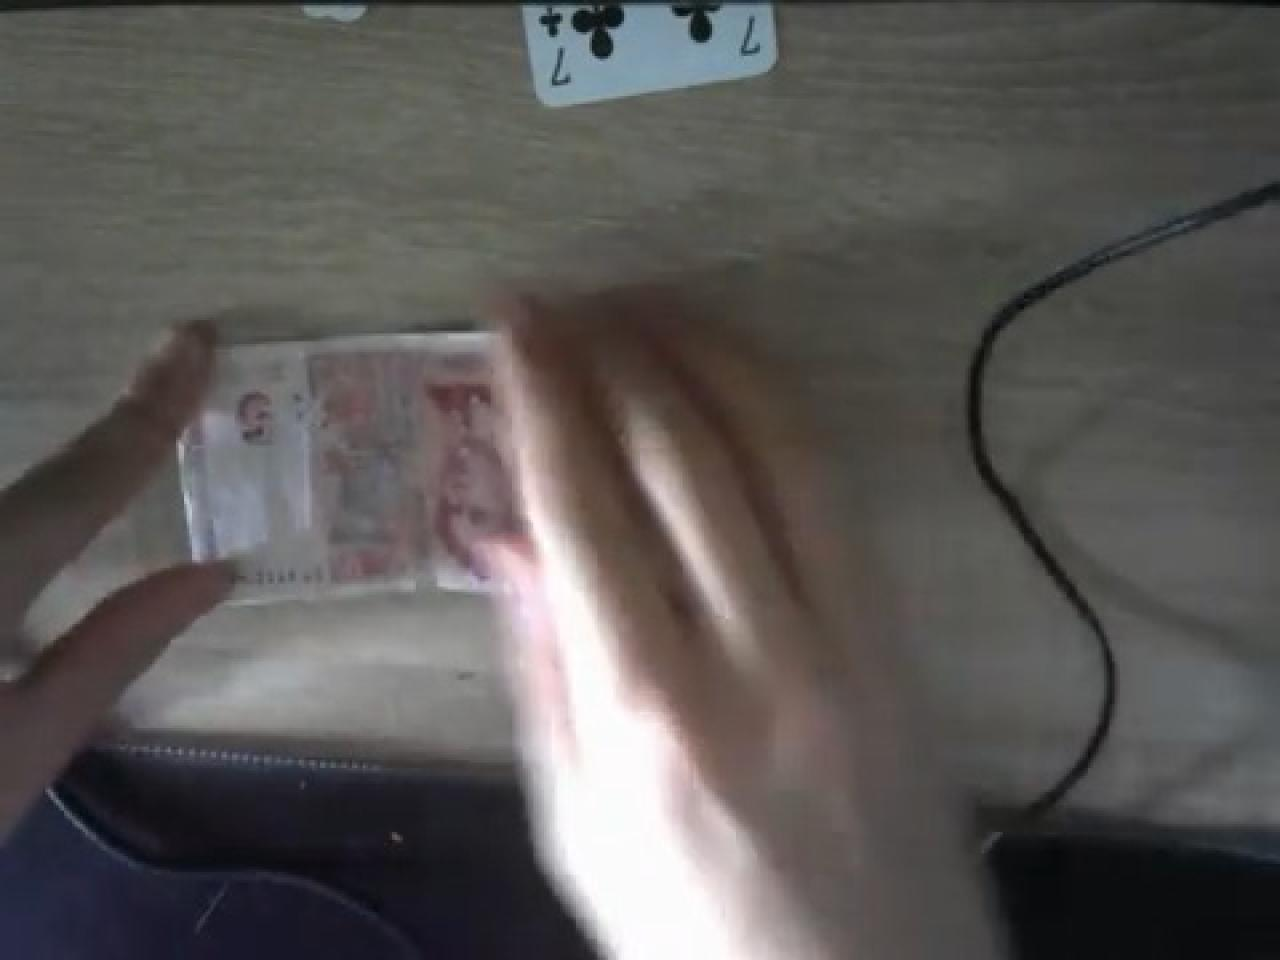5leva: (176, 334, 478, 603)
